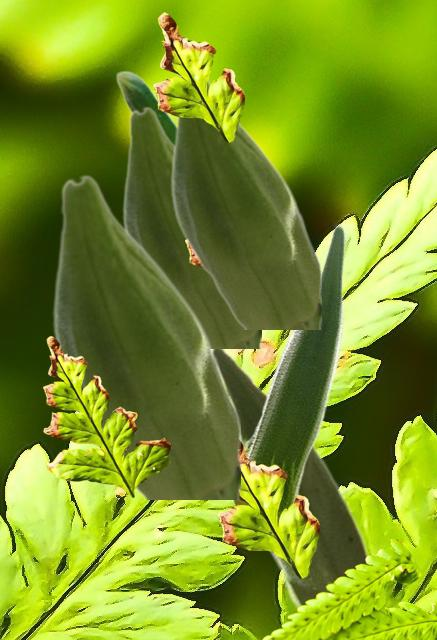okra: (52, 174, 239, 498), (214, 348, 369, 609), (170, 76, 320, 328), (231, 223, 345, 515), (122, 106, 260, 347), (115, 70, 174, 141)
